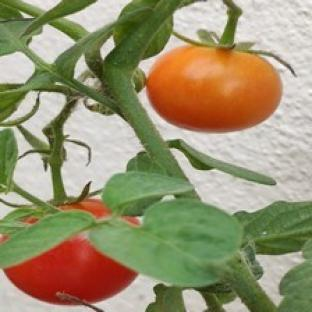Tomato: (147, 46, 282, 132), (5, 233, 137, 305)
